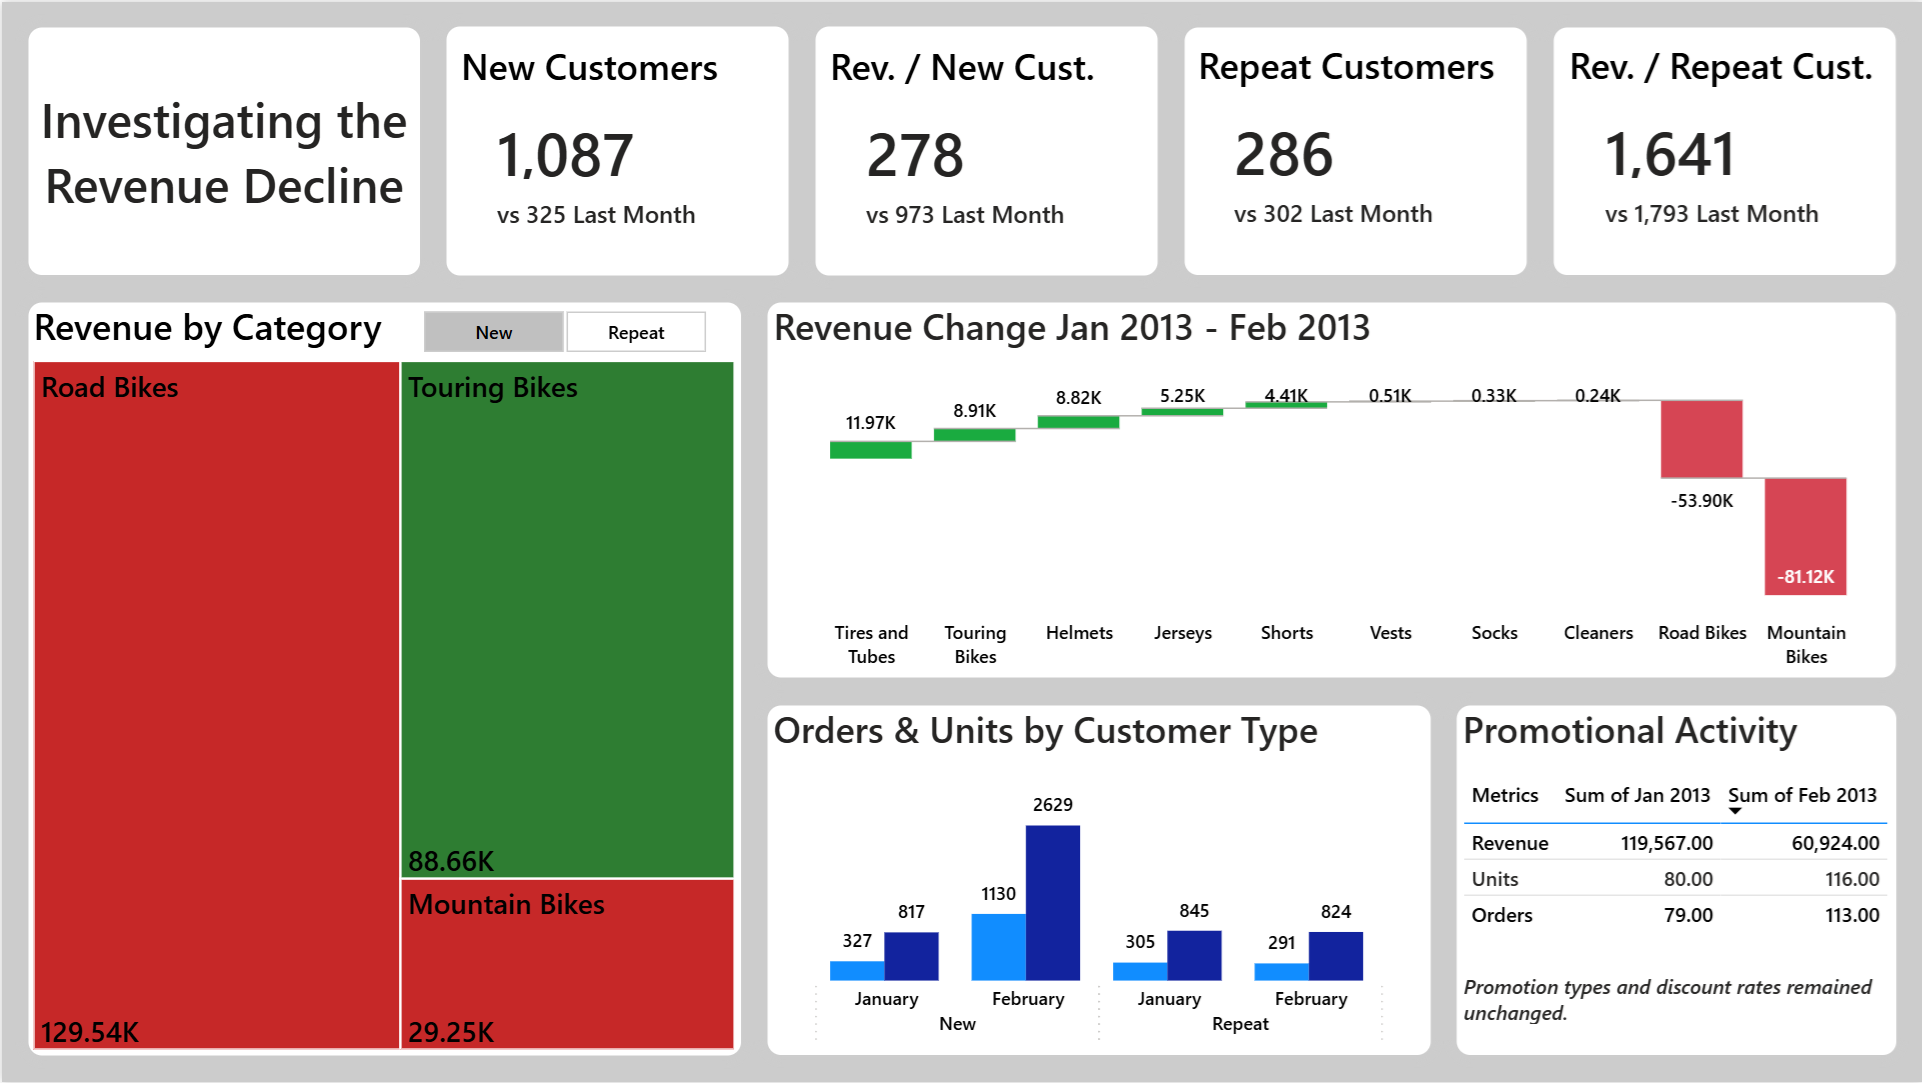

This screenshot's page, from the dashboard's own definition file:
{"tool":"powerbi","page":{"name":"Page 2","canvas":[1280,720],"ordinal":1},"visuals":[{"type":"shape","box":[968.5,467.7,294.6,235.4],"z":0},{"type":"shape","box":[509.3,199.3,754,252],"z":1000},{"type":"shape","box":[16.7,199.3,476.7,504],"z":2000},{"type":"shape","box":[16.7,16,263.3,167.3],"z":3000},{"type":"treemap","title":"Revenue by Category","fields":{"Values":["page_2_customers_and_products.Feb Revenue"],"Group":["page_2_customers_and_products.category Hierarchy.Category","page_2_customers_and_products.category Hierarchy.Subcategory"]},"box":[16,199.3,477.3,504],"z":7000},{"type":"slicer","fields":{"Values":["page_2_customers_and_products.customer_type"]},"box":[255.3,199.3,238,40.7],"z":9000},{"type":"waterfallChart","title":"Revenue Change Jan 2013 - Feb 2013","fields":{"Category":["page_2_revenue_movers.subcategory"],"Y":["page_2_revenue_movers.Revenue Change:"]},"box":[509.2,199.2,753.8,252.3],"z":10000},{"type":"tableEx","title":"Promotional Activity","fields":{"Values":["page_2_promotional_impact.metrics","Sum(page_2_promotional_impact.Jan 2013)","Sum(page_2_promotional_impact.Feb 2013)"]},"box":[968.5,467.7,294.6,236.2],"z":11000},{"type":"textbox","box":[16,16.7,264,150.7],"z":12000},{"type":"shape","box":[295.6,15.6,230,168],"z":13000},{"type":"shape","box":[541.6,15.6,230,168],"z":15000},{"type":"shape","box":[787.3,16,230,167.3],"z":18000},{"type":"shape","box":[1033.3,16,230,167.3],"z":20000},{"type":"cardVisual","title":"New Customers","fields":{"Data":["page_2_new_vs_returning_customers.Total New Customers Feb"]},"box":[296,16,230,167.3],"z":22000},{"type":"cardVisual","title":"Rev. / New Cust.","fields":{"Data":["page_2_new_vs_returning_customers.Revenue per New Customer Feb"]},"box":[542,16,229.3,167.3],"z":23000},{"type":"cardVisual","title":"Repeat Customers","fields":{"Data":["page_2_new_vs_returning_customers.Returning Customers Feb"]},"box":[787.3,15.3,230,167.3],"z":24000},{"type":"cardVisual","title":"Rev. / Repeat Cust.","fields":{"Data":["page_2_new_vs_returning_customers.Revenue per Returning Customer Feb"]},"box":[1034.7,15.3,230,167.3],"z":25000},{"type":"shape","box":[509.2,467.7,443.8,235.4],"z":26000},{"type":"clusteredColumnChart","title":"Orders & Units by Customer Type","fields":{"Category":["page_2_new_vs_returning_customers.customer_type","page_2_new_vs_returning_customers.Date.Variation.Date Hierarchy.Month"],"Y":["page_2_new_vs_returning_customers.Total Orders","page_2_new_vs_returning_customers.Total Units:"]},"box":[509.2,467.7,443.8,235.4],"z":29000},{"type":"textbox","box":[969.2,625.4,293.8,77.7],"z":30001}]}

Visuals, with their boxes in screenshot pixels (x1, y1, x2, y2), scaled from the page's 1280x720 canvas onto the 1922x1083 screenshot:
shape: 1454,703,1897,1058
shape: 765,300,1897,679
shape: 25,300,741,1058
shape: 25,24,420,276
"Revenue by Category" treemap: 24,300,741,1058
slicer - page_2_customers_and_products.customer_type: 383,300,741,361
"Revenue Change Jan 2013 - Feb 2013" waterfallChart: 765,300,1896,679
"Promotional Activity" tableEx: 1454,703,1897,1059
textbox: 24,25,420,252
shape: 444,23,789,276
shape: 813,23,1159,276
shape: 1182,24,1528,276
shape: 1552,24,1897,276
"New Customers" cardVisual: 444,24,790,276
"Rev. / New Cust." cardVisual: 814,24,1158,276
"Repeat Customers" cardVisual: 1182,23,1528,275
"Rev. / Repeat Cust." cardVisual: 1554,23,1899,275
shape: 765,703,1431,1058
"Orders & Units by Customer Type" clusteredColumnChart: 765,703,1431,1058
textbox: 1455,941,1896,1058
